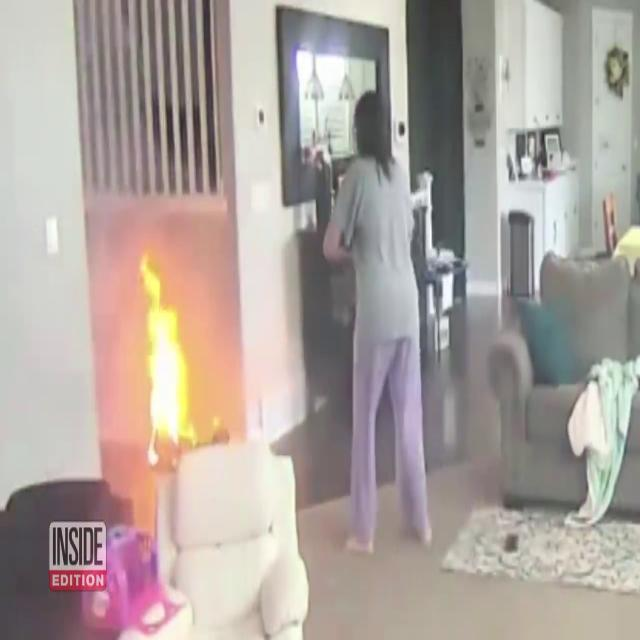Fire: (133, 242, 194, 459)
